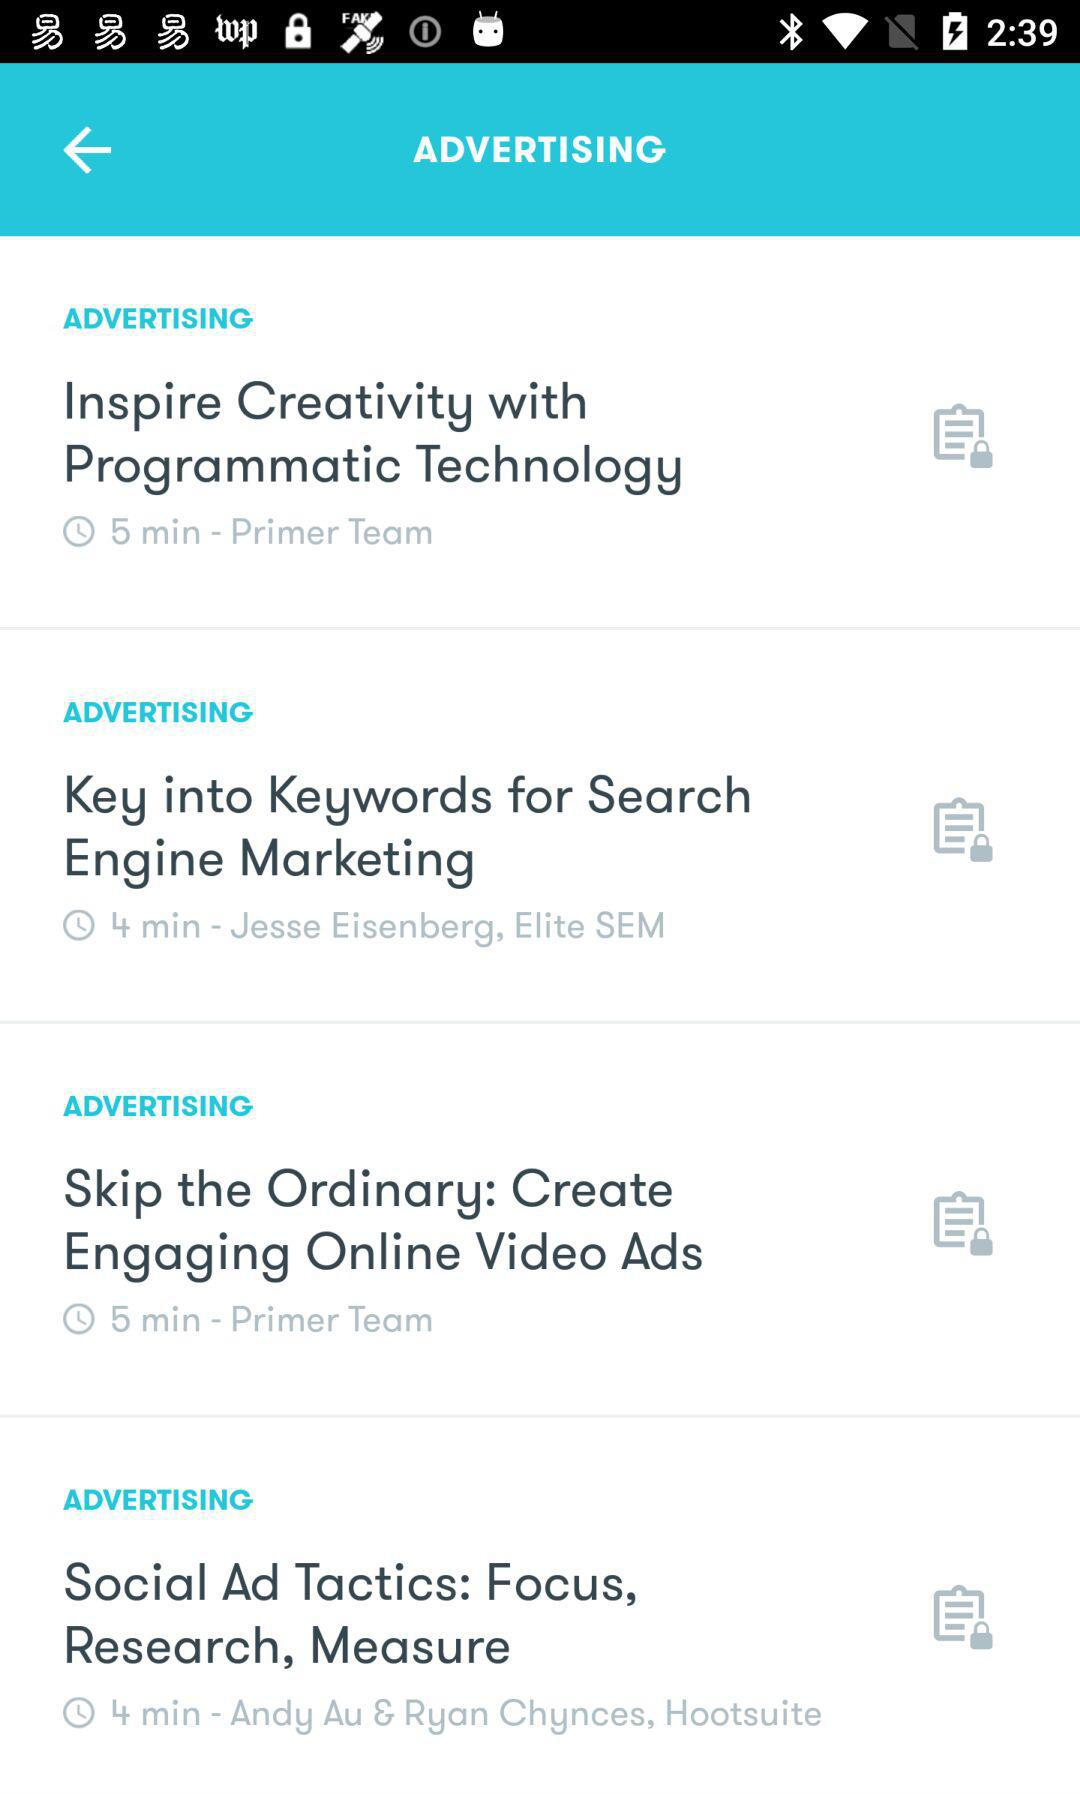Icon: (933, 402, 995, 472), (931, 1583, 994, 1650), (933, 796, 995, 864), (933, 1190, 994, 1257), (63, 126, 114, 176), (61, 1302, 97, 1337), (63, 1697, 97, 1730), (63, 909, 97, 942), (63, 515, 97, 548)
Text: (67, 774, 751, 891), (65, 1167, 705, 1284), (67, 381, 682, 497), (64, 1561, 638, 1671), (111, 1697, 822, 1738), (111, 910, 665, 950), (111, 1303, 433, 1335), (111, 516, 433, 547), (413, 136, 667, 167), (63, 1488, 255, 1512), (64, 701, 255, 725), (63, 1094, 255, 1117), (63, 308, 255, 331)
Toolbar: (1, 64, 1080, 236)
UpperTaskBar: (1, 1, 1080, 64)
